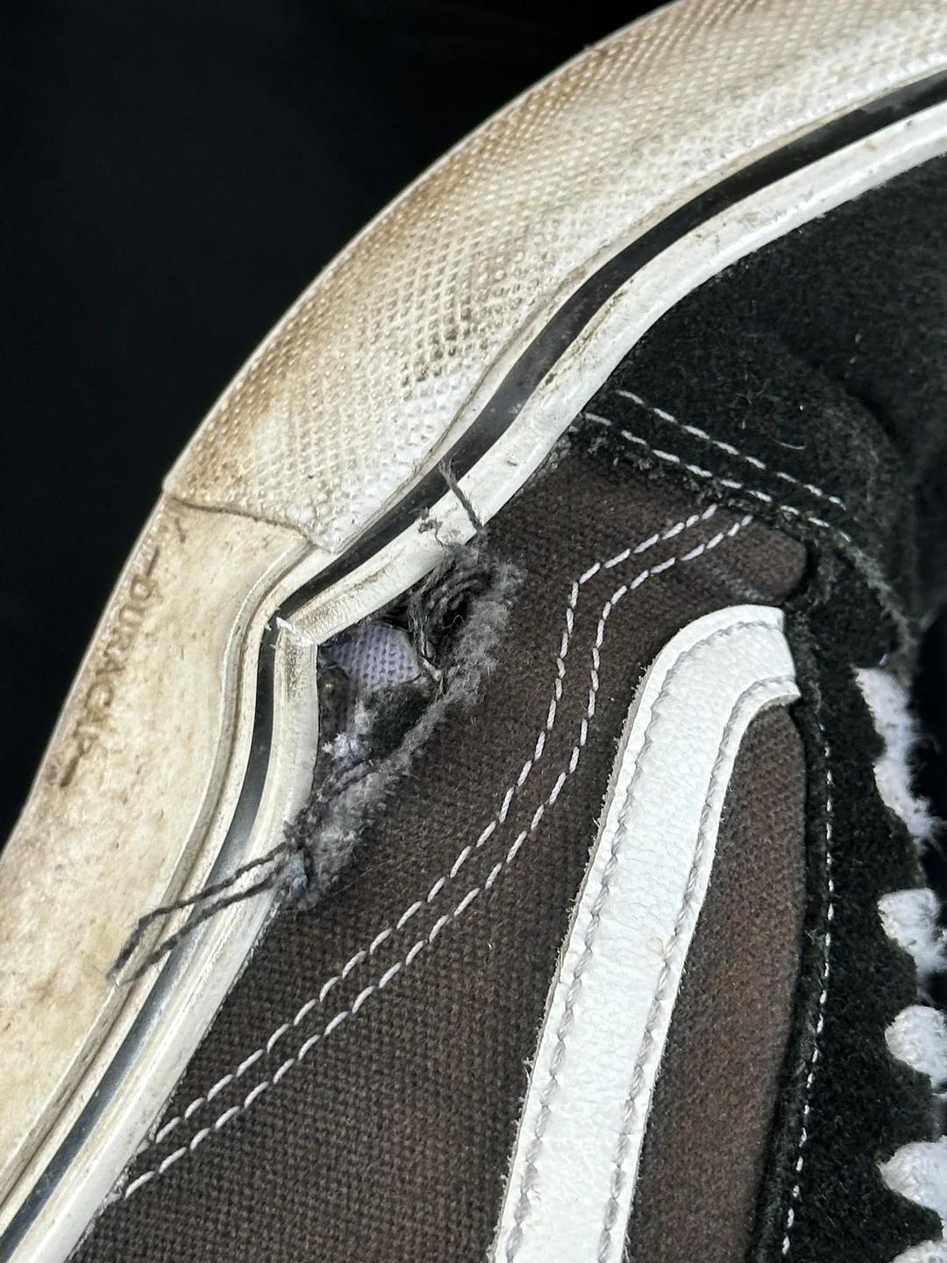bonding: (242, 471, 491, 886)
